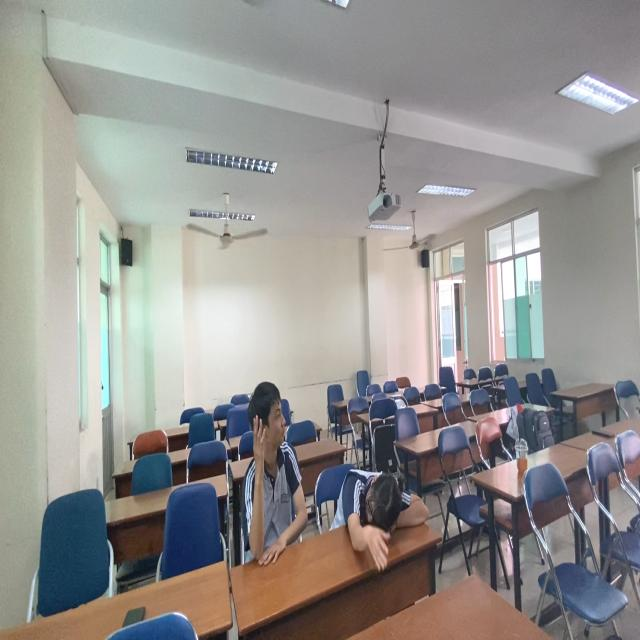raise_hand: (241, 376, 312, 563)
sleep: (333, 461, 433, 571)
